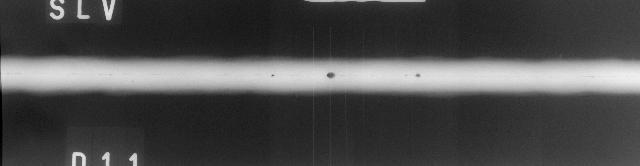FP: (528, 70, 638, 84), (434, 70, 524, 82), (291, 70, 364, 80), (368, 70, 426, 82), (1, 71, 104, 77), (213, 72, 264, 80), (121, 71, 172, 77), (176, 72, 184, 78), (270, 72, 276, 80)
PO: (106, 71, 114, 79), (130, 79, 138, 85)
